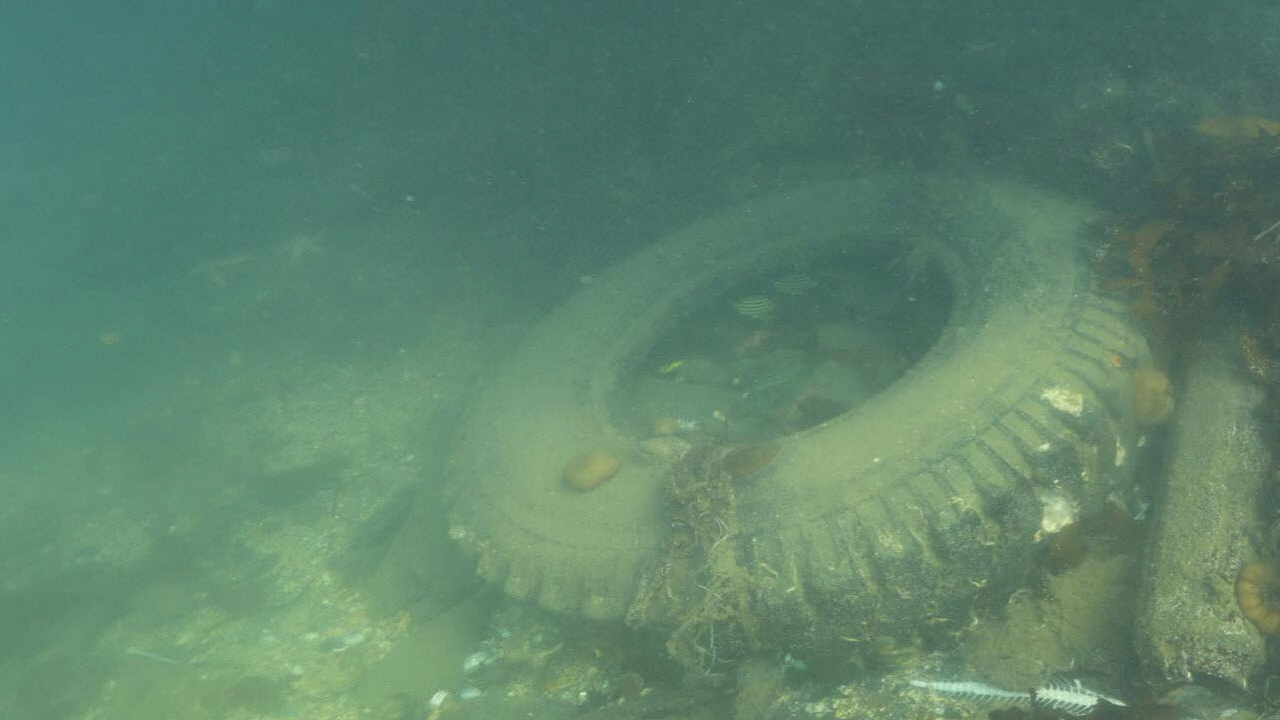eel fish trap: (1129, 277, 1280, 720)
tire: (444, 169, 1181, 695)
